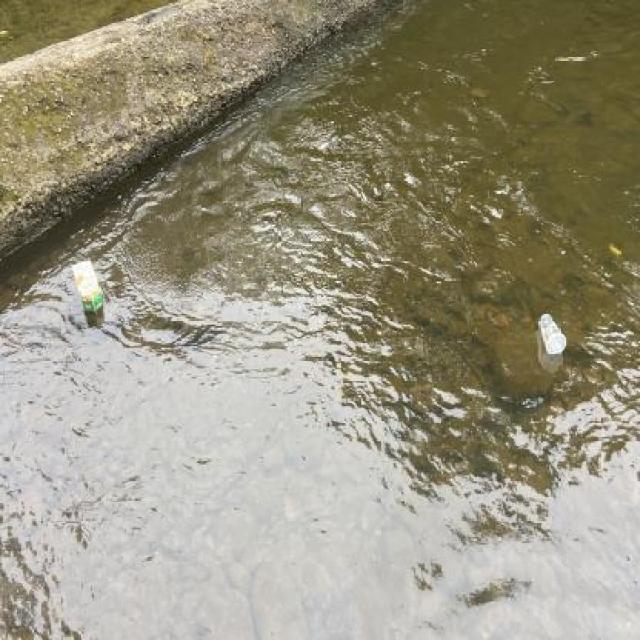Cardboard: (61, 250, 110, 324)
Plastic: (534, 309, 568, 360)
